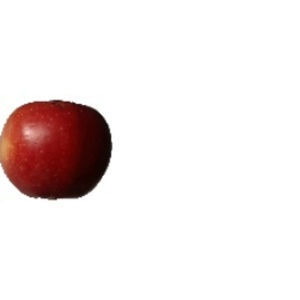maçã braeburn: (1, 95, 121, 202)
